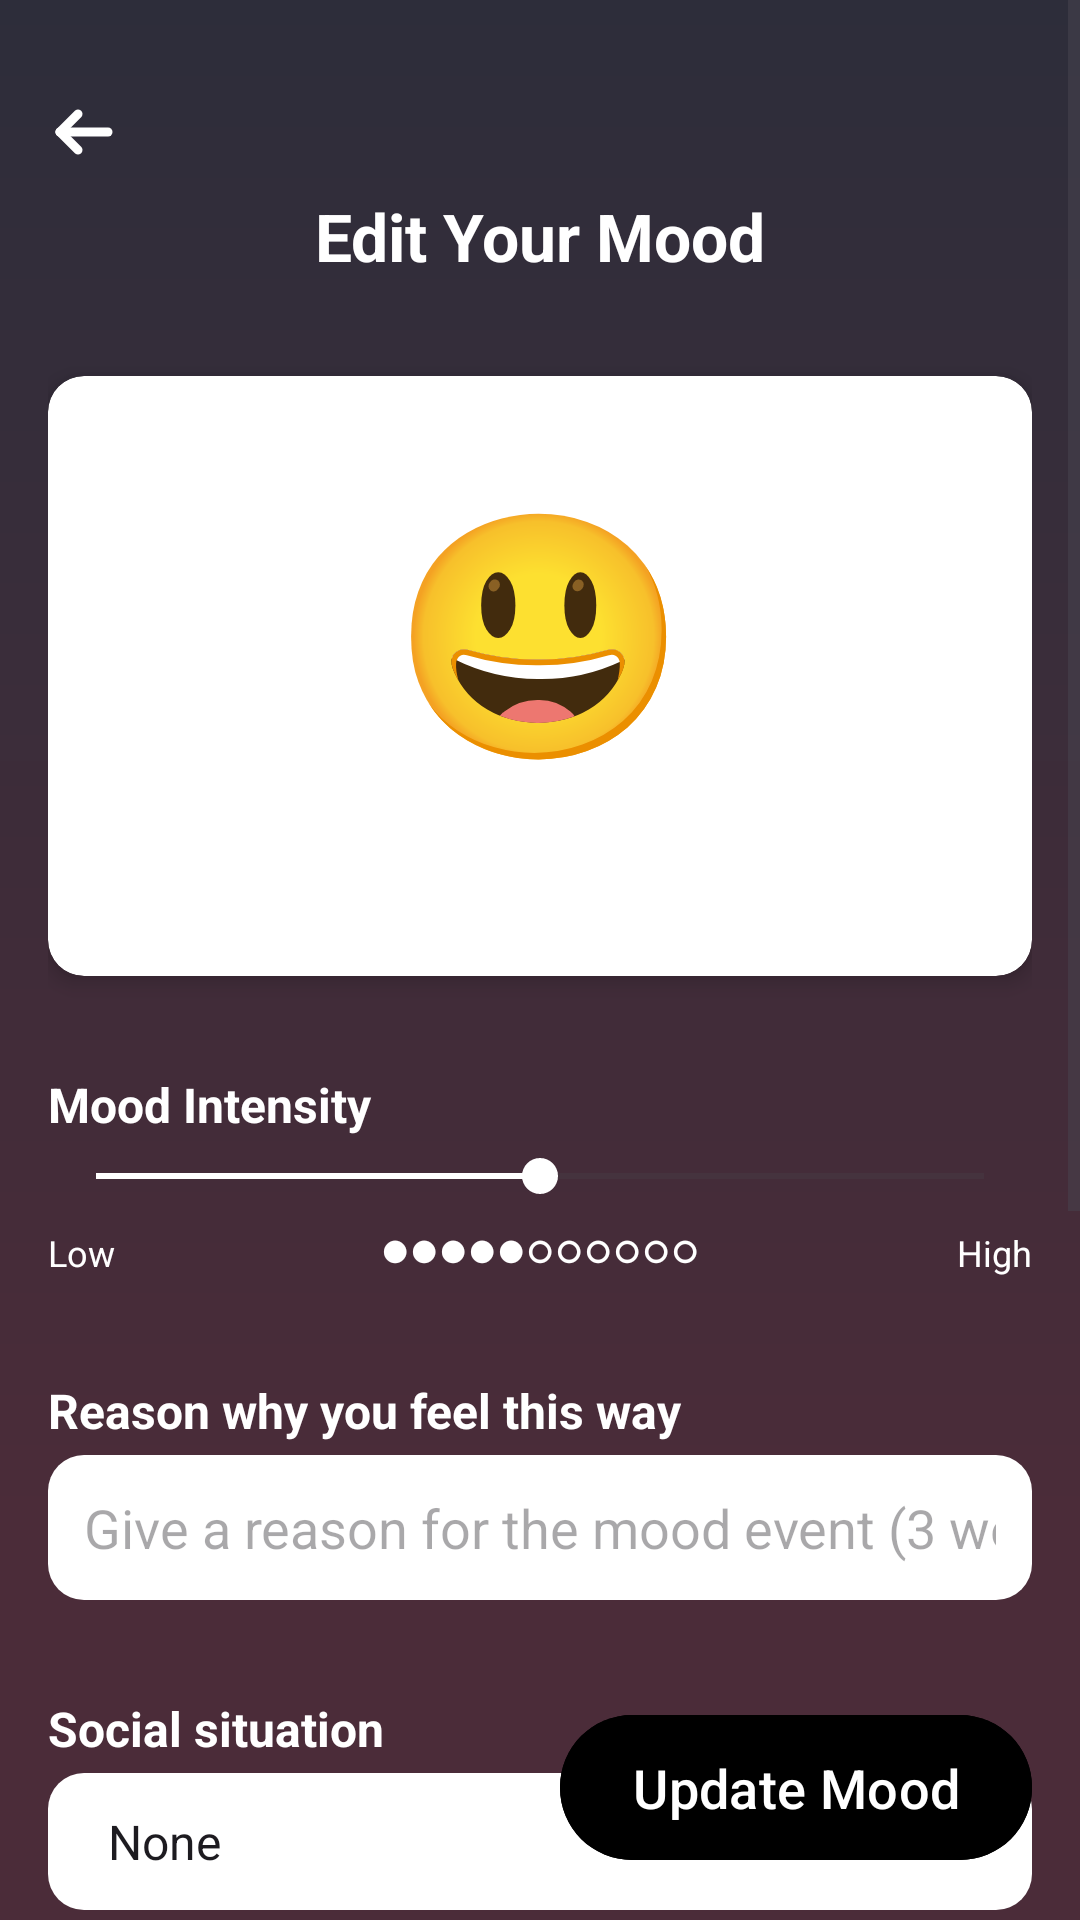

Icon bounding boxes for this 1080w x 1920h phone screenshot, format [x1,y1,x2,y2]:
Back: [55,109,113,155]
